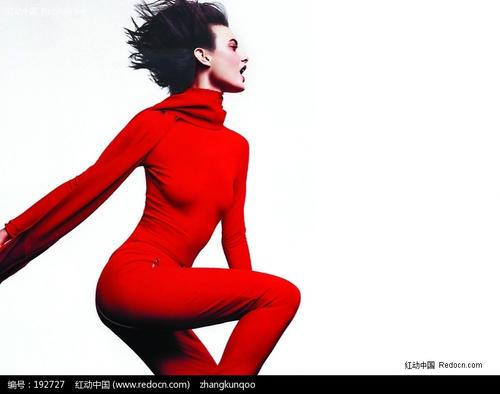no_mask: (122, 2, 248, 94)
